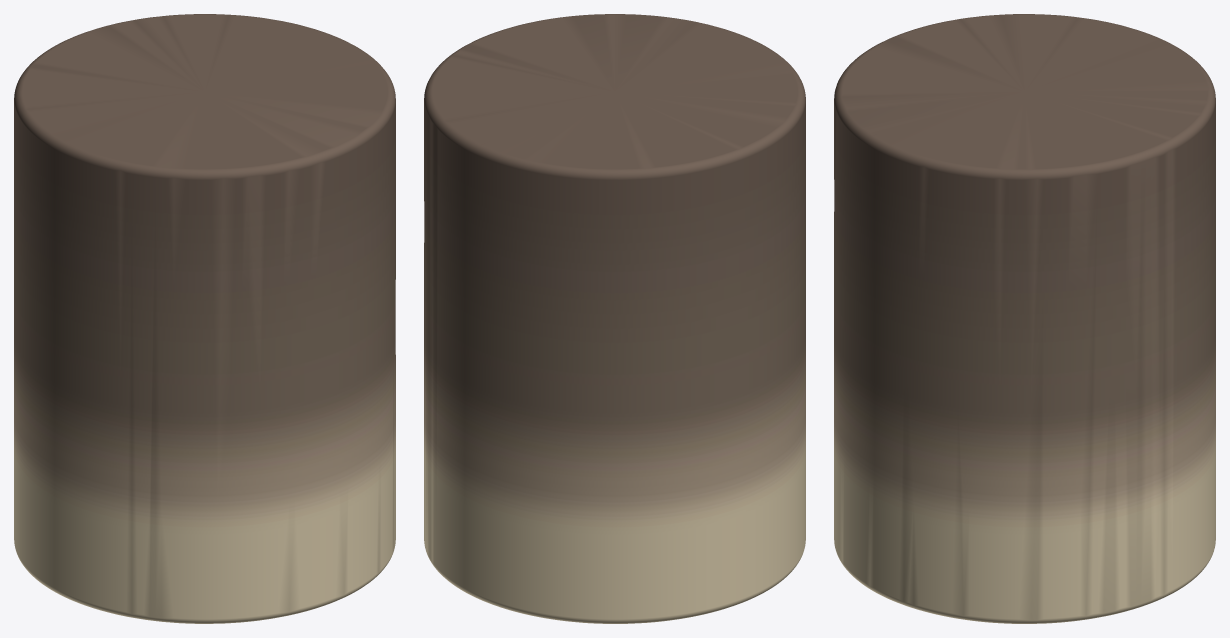
The model's file is rook-black.glb.
3 renders of one model, left to right at view 1: azimuth 30°, elevation 25°; view 2: azimuth 150°, elevation 25°; view 3: azimuth 270°, elevation 25°, orthographic.
Parts seen in each view (by area): view 1: MONOLITH Věž – Kouř (černý); view 2: MONOLITH Věž – Kouř (černý); view 3: MONOLITH Věž – Kouř (černý).
Part boxes in pixels (x1,y1,x2,y2): MONOLITH Věž – Kouř (černý): [14, 14, 395, 623]; MONOLITH Věž – Kouř (černý): [424, 14, 805, 623]; MONOLITH Věž – Kouř (černý): [834, 14, 1215, 623].
Size of the model in its own units: 0.7086 by 0.93 by 0.7086.
Materials: 1 (1 with a texture image).
